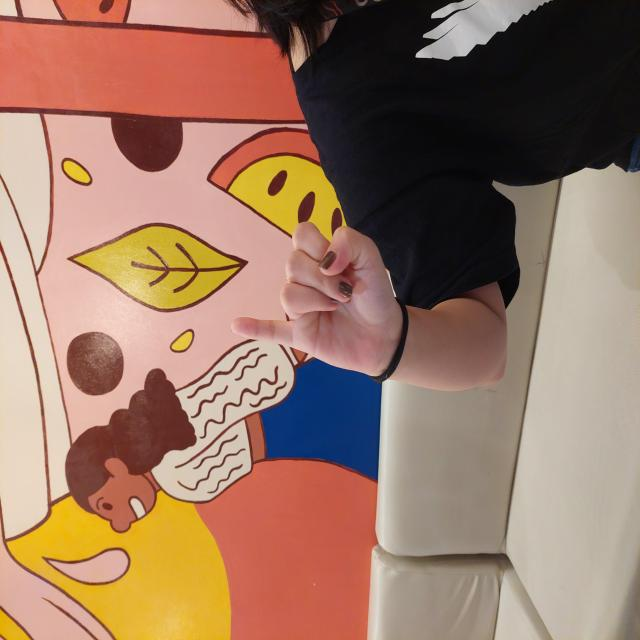I: (267, 230, 421, 400)
